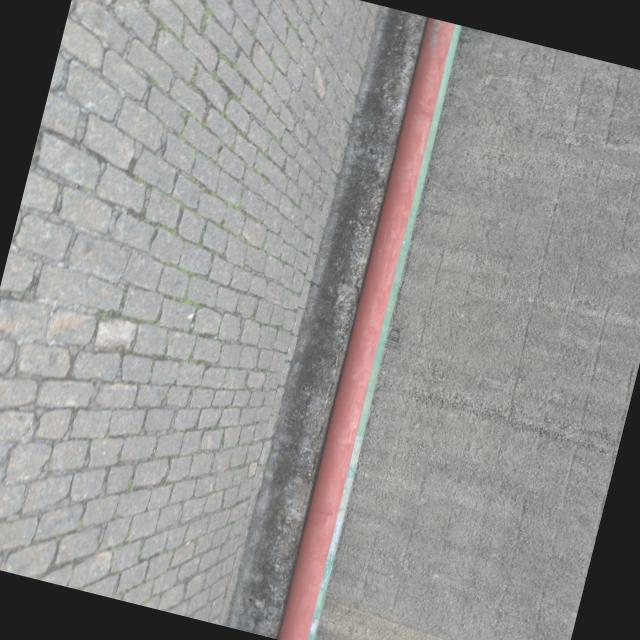gas: (279, 18, 453, 640)
